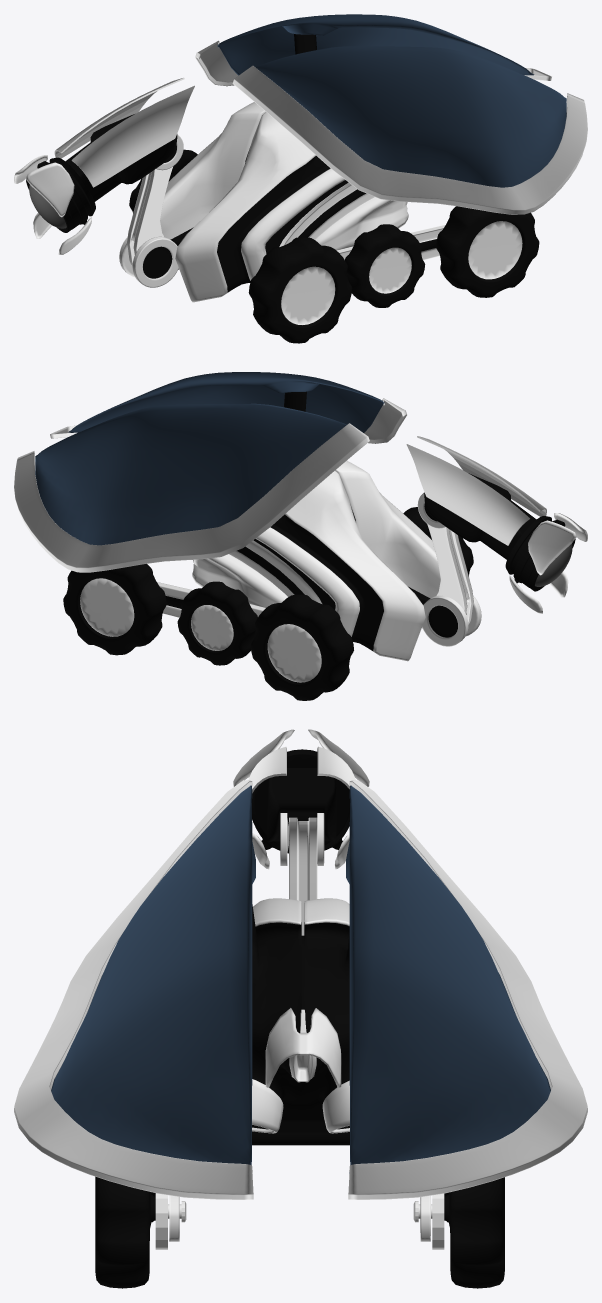
File: RoverReneFinal.FBX
3 views of the same model, one above another, from view 1: azimuth 30°, elevation 25°; view 2: azimuth 150°, elevation 25°; view 3: azimuth 270°, elevation 25° (orthographic). The views are drawn at different scales.
Parts seen in each view (by area): view 1: Plane03; view 2: Plane03; view 3: Plane03.
Boxes of the visible parts, x1,y1,x2,y2 form: Plane03: (14,14,587,343); Plane03: (14,372,587,700); Plane03: (14,729,587,1288).
Bounding box in the file's own units: 6.47 × 2.75 × 3.96.
